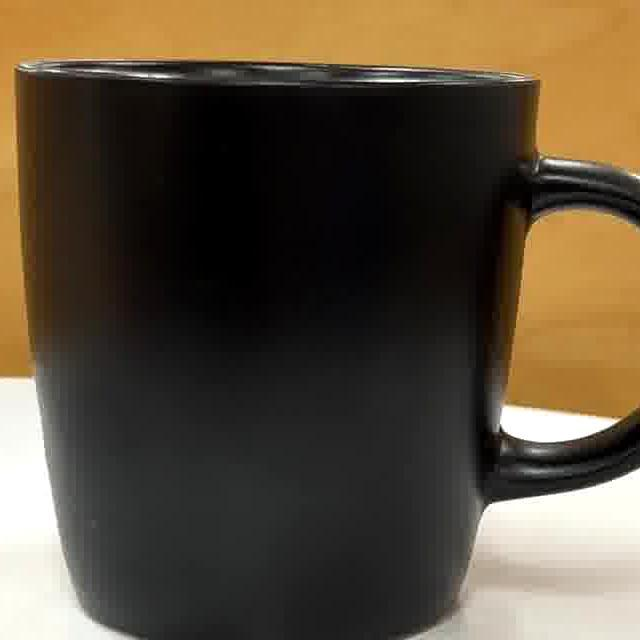cup: (22, 62, 640, 640)
